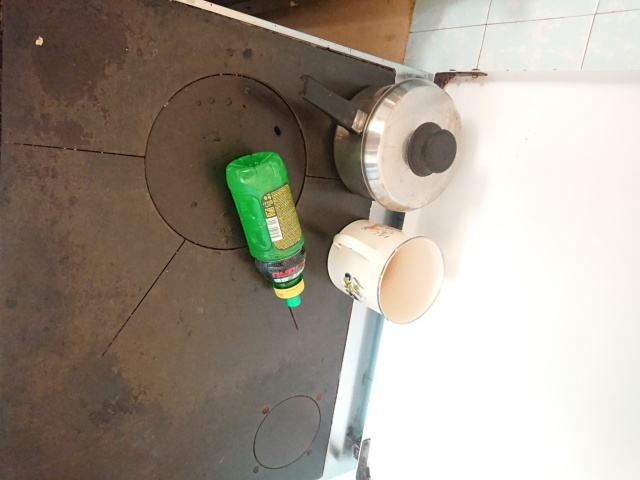Vindi Iso Sport Lemon-Grapefruit 500mL: (223, 149, 310, 310)
